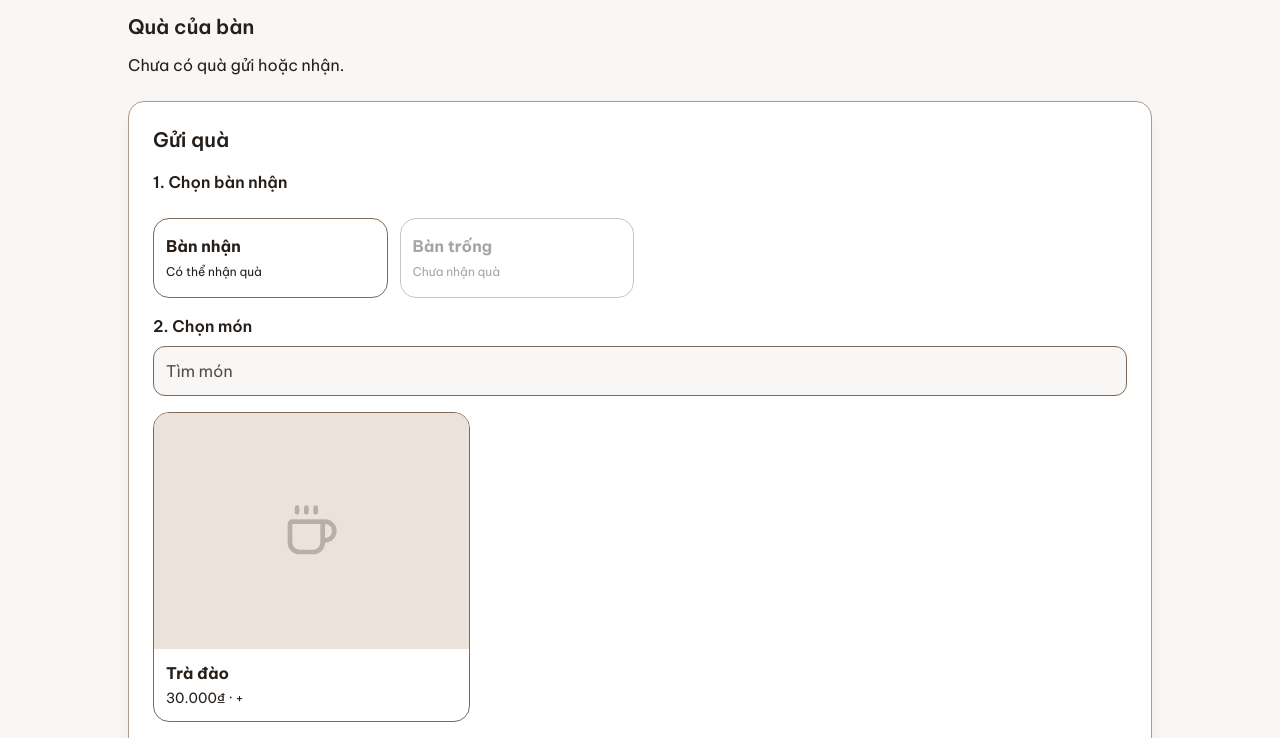
anonymous gift UI › requires reselecting a table when that table now has another session
The width and height of the screenshot is (1280, 738).
Click the button "Bàn nhận Có thể nhận quà": (270, 258) x1=153 y1=218 x2=388 y2=298
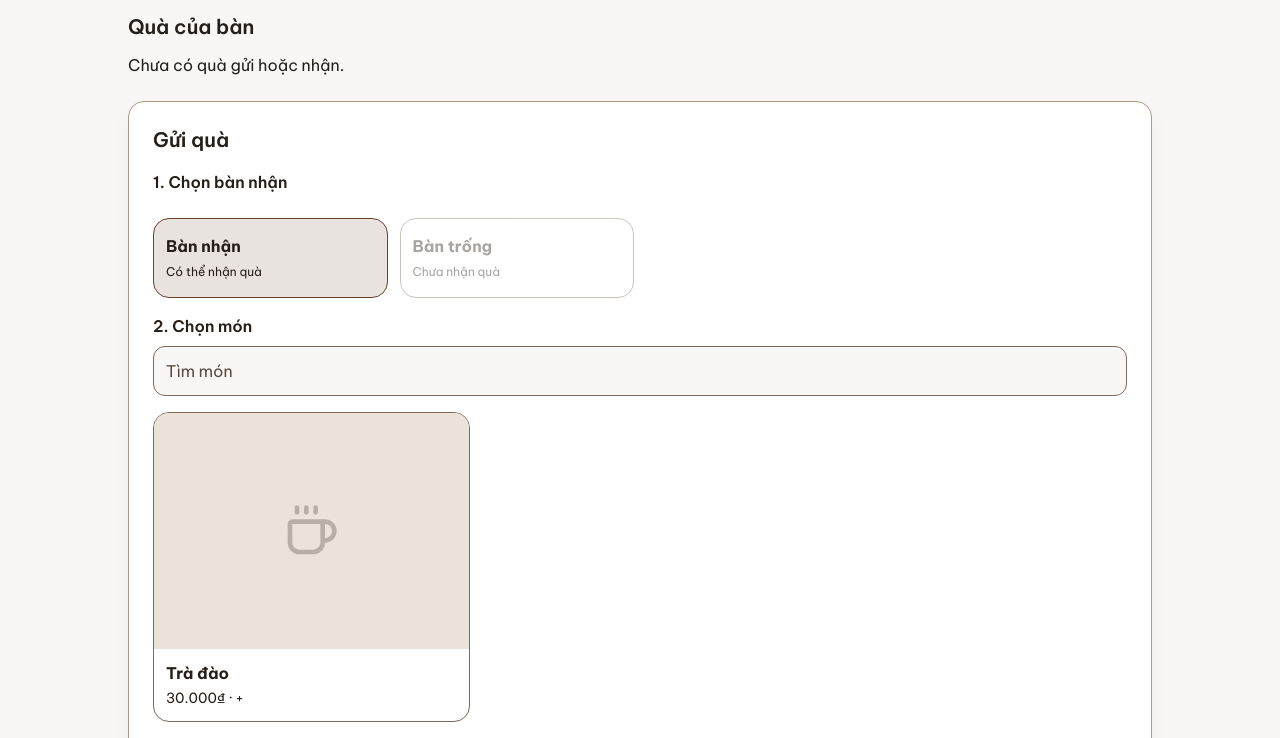
Click the button "Trà đào 30.000₫ · +": (311, 567) x1=153 y1=412 x2=470 y2=722
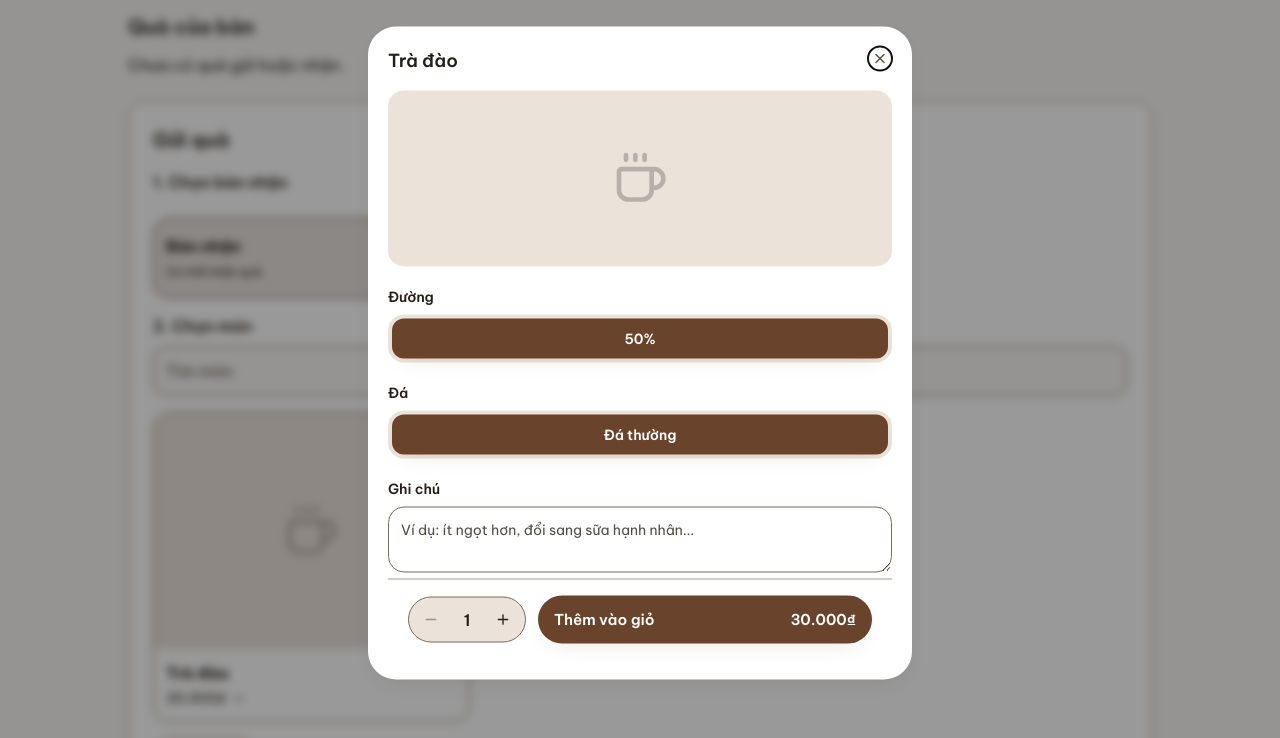
Click the button "Thêm vào giỏ 30.000₫": (604, 619) x1=538 y1=596 x2=872 y2=644
(page scrolled)
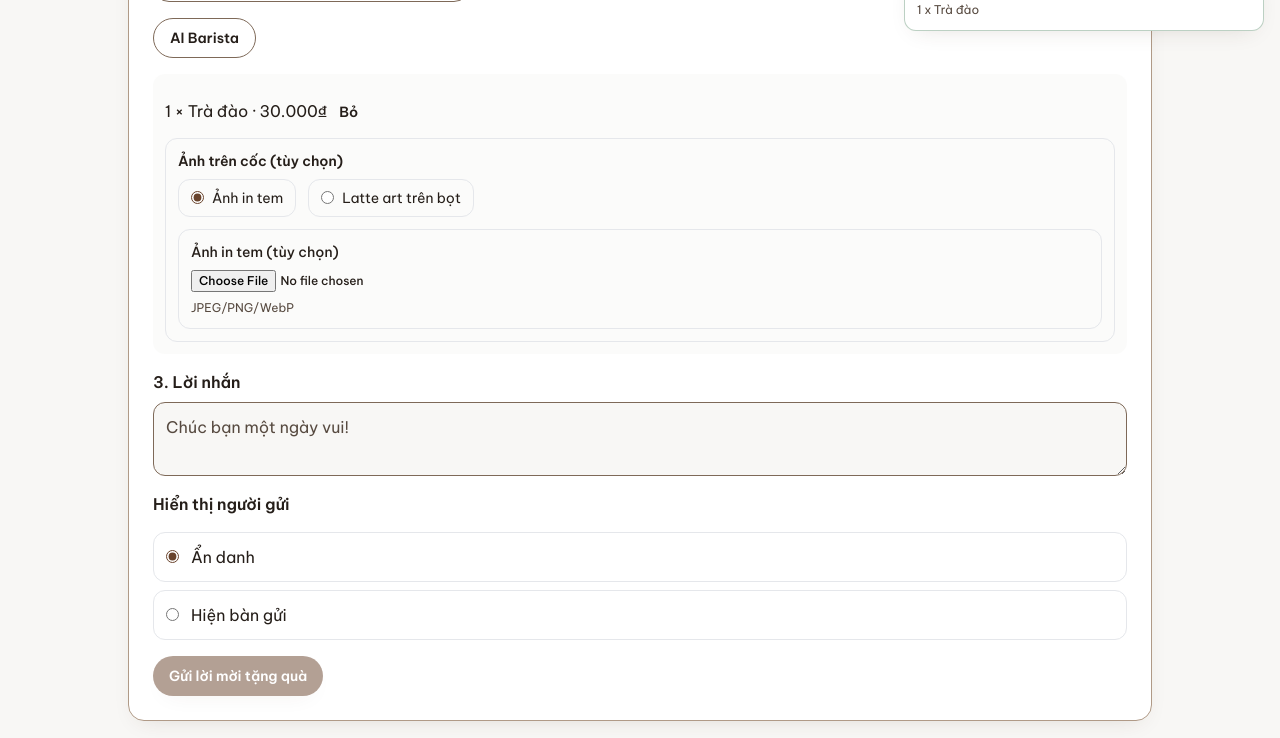
Expected: the button "Gửi lời mời tặng quà" is disabled, x1=153 y1=656 x2=323 y2=696
Result: the dialog is gone
